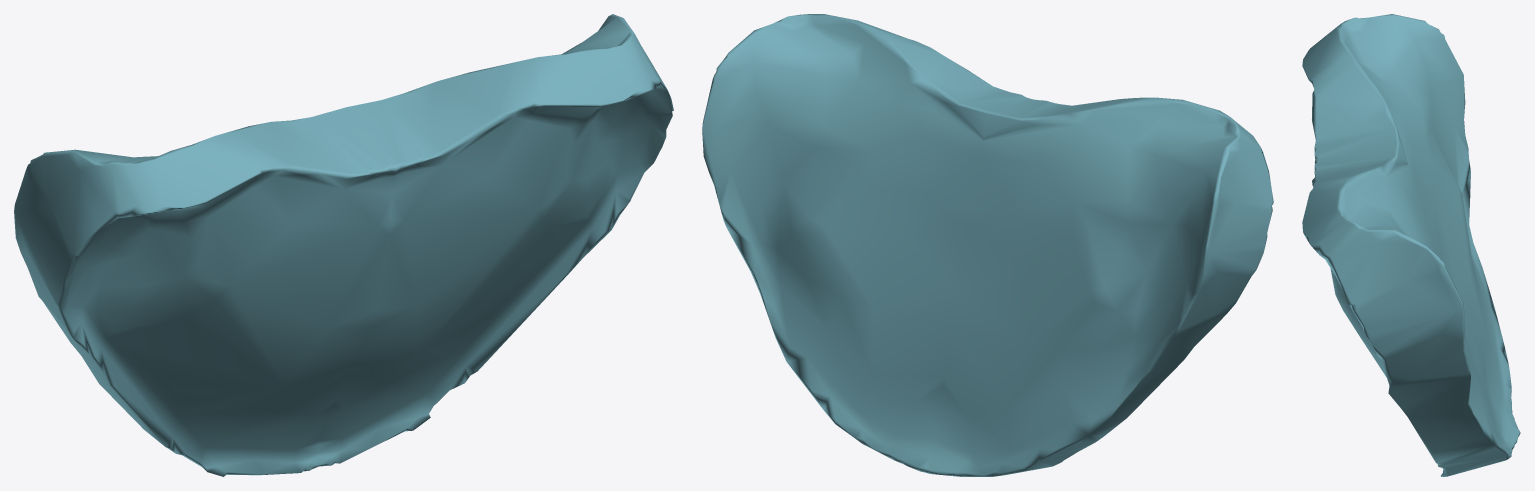
The picture shows the model from 3 angles, left to right: view 1: azimuth 30°, elevation 25°; view 2: azimuth 150°, elevation 25°; view 3: azimuth 270°, elevation 25°; orthographic projection. The views are drawn at different scales.
Parts seen in each view (by area): view 1: 胸2—胸3椎间盘; view 2: 胸2—胸3椎间盘; view 3: 胸2—胸3椎间盘.
Boxes of the visible parts, x1,y1,x2,y2 form: 胸2—胸3椎间盘: [14, 14, 673, 476]; 胸2—胸3椎间盘: [702, 14, 1273, 476]; 胸2—胸3椎间盘: [1302, 14, 1520, 476].
Size of the model in its own units: 0.0507 by 0.0333 by 0.0197.
